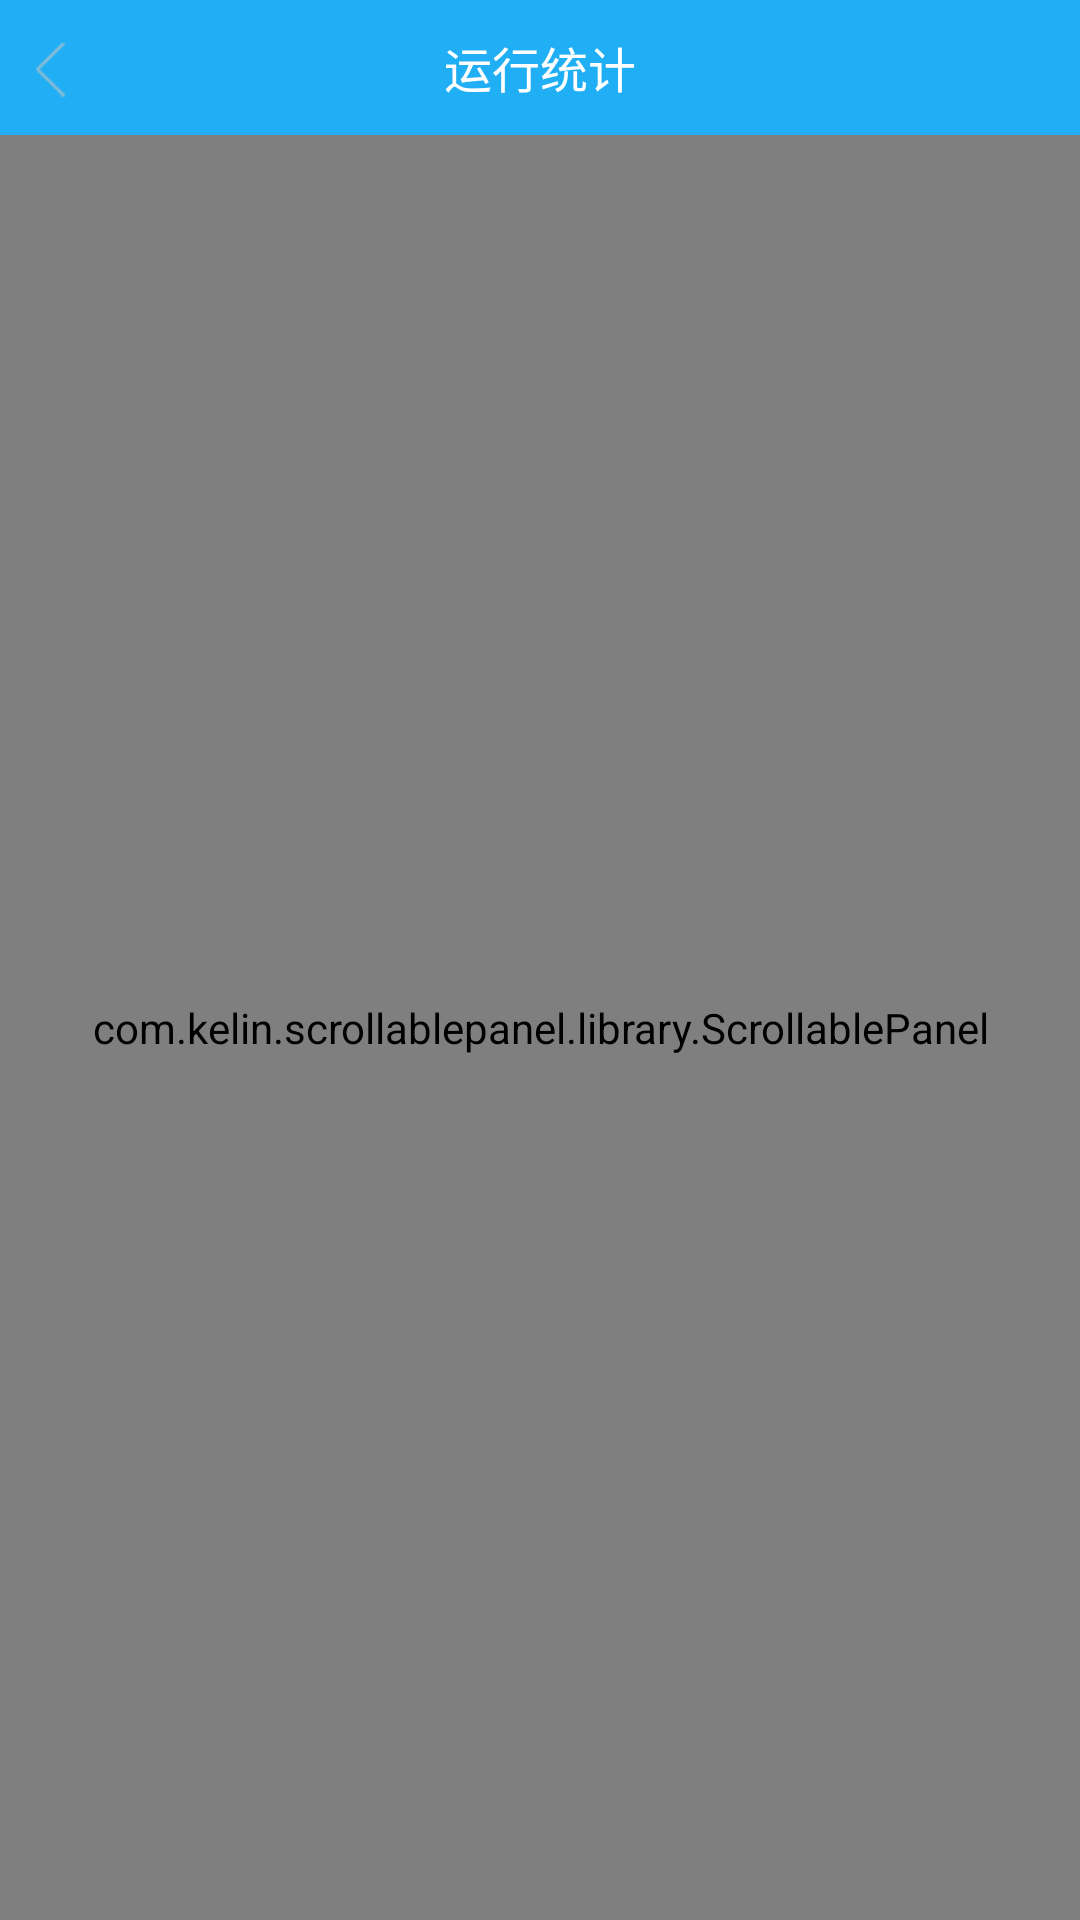

Named icons in this screenshot (1080w x 1920h) and their centers, (x,y):
left: (50,70)
